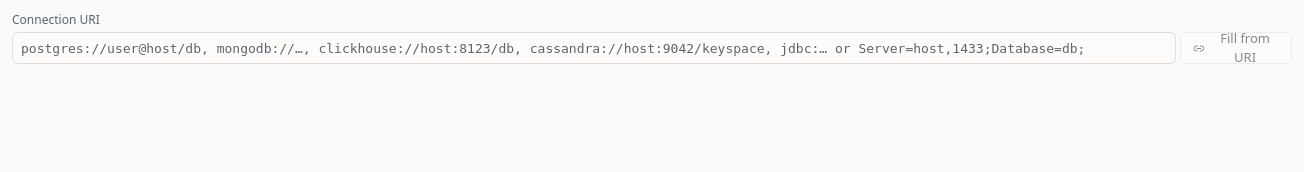
UriPaste › shows the error of an invalid URI
In the field labelled "Connection URI": (594, 48) [12,32,1176,64], type "http://nope"
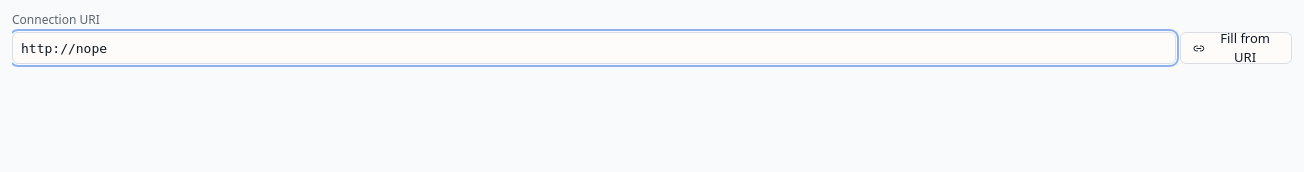
Click the button "Fill from URI": click(1236, 48) [1180,32,1292,64]
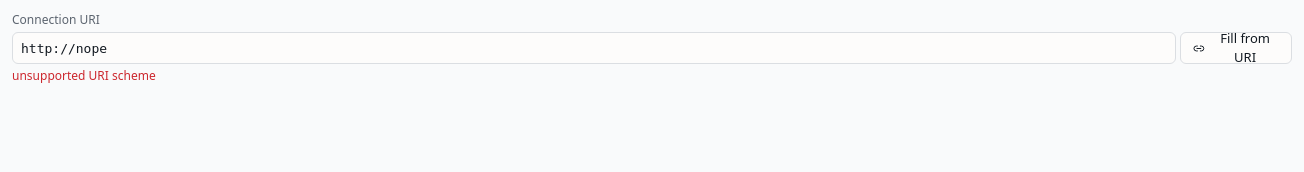
Now the message "unsupported URI scheme" is shown, box [12,67,156,84]
